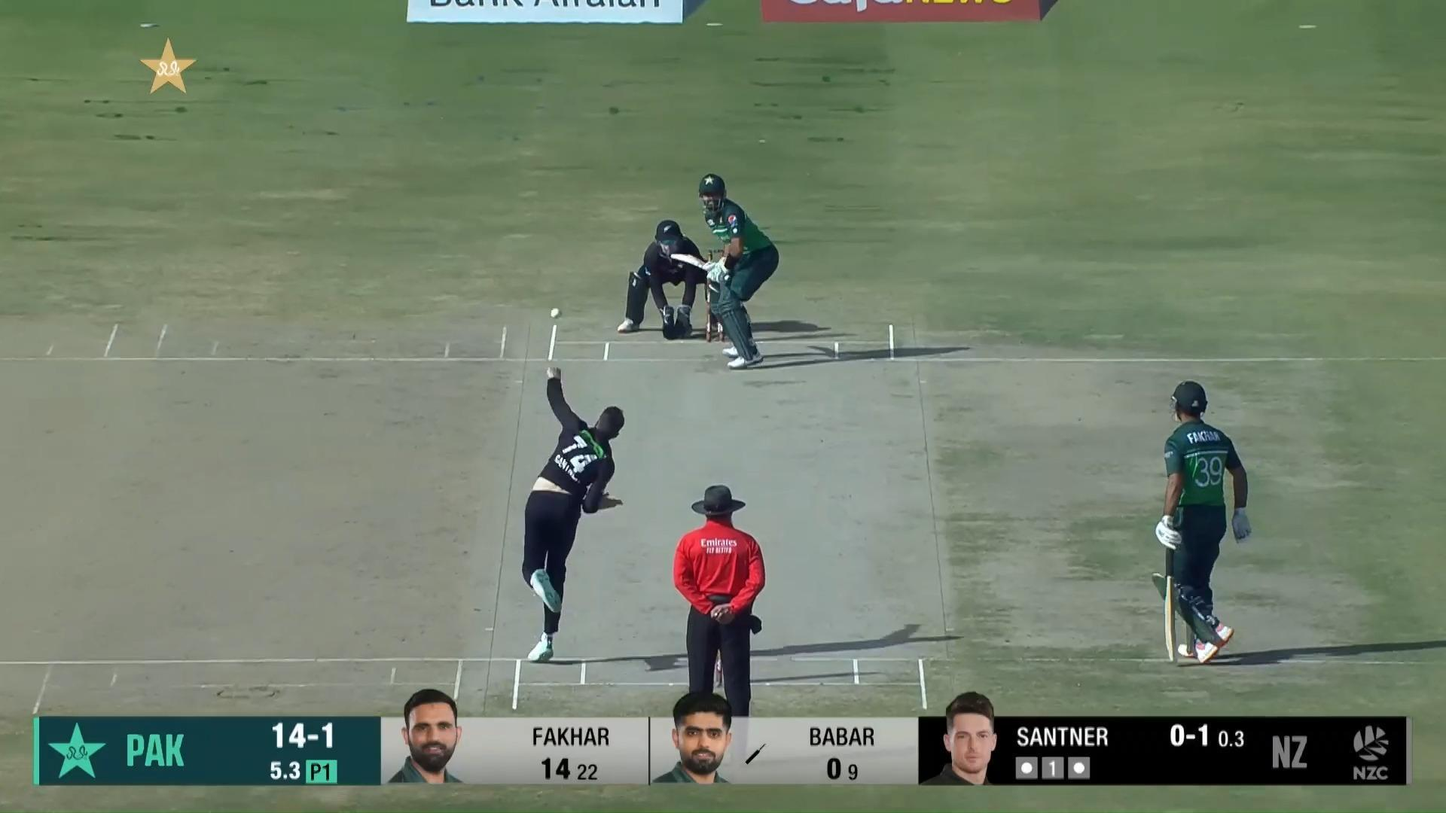BM 1: (670, 174, 779, 370)
BO: (521, 367, 625, 658)
